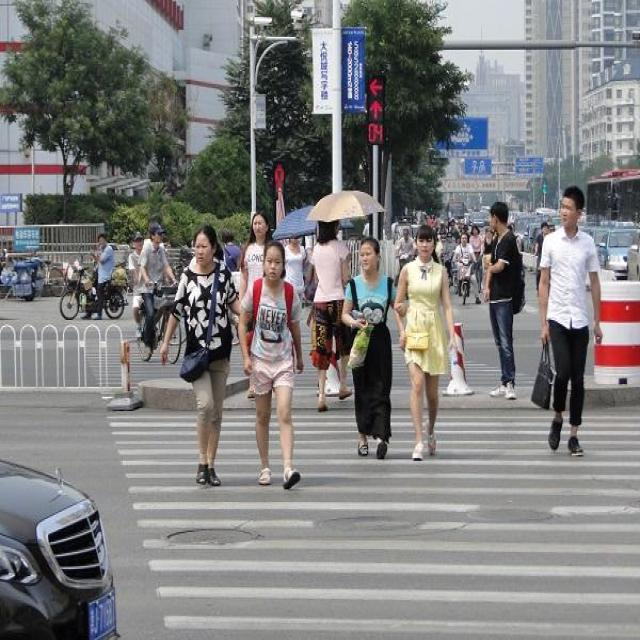person: (525, 182, 600, 461), (244, 239, 306, 495), (179, 225, 237, 486), (400, 222, 458, 473), (351, 234, 396, 453), (483, 198, 525, 408), (316, 208, 354, 420), (144, 219, 178, 347), (86, 229, 125, 330), (242, 205, 272, 284), (123, 226, 146, 293), (218, 226, 244, 273)
